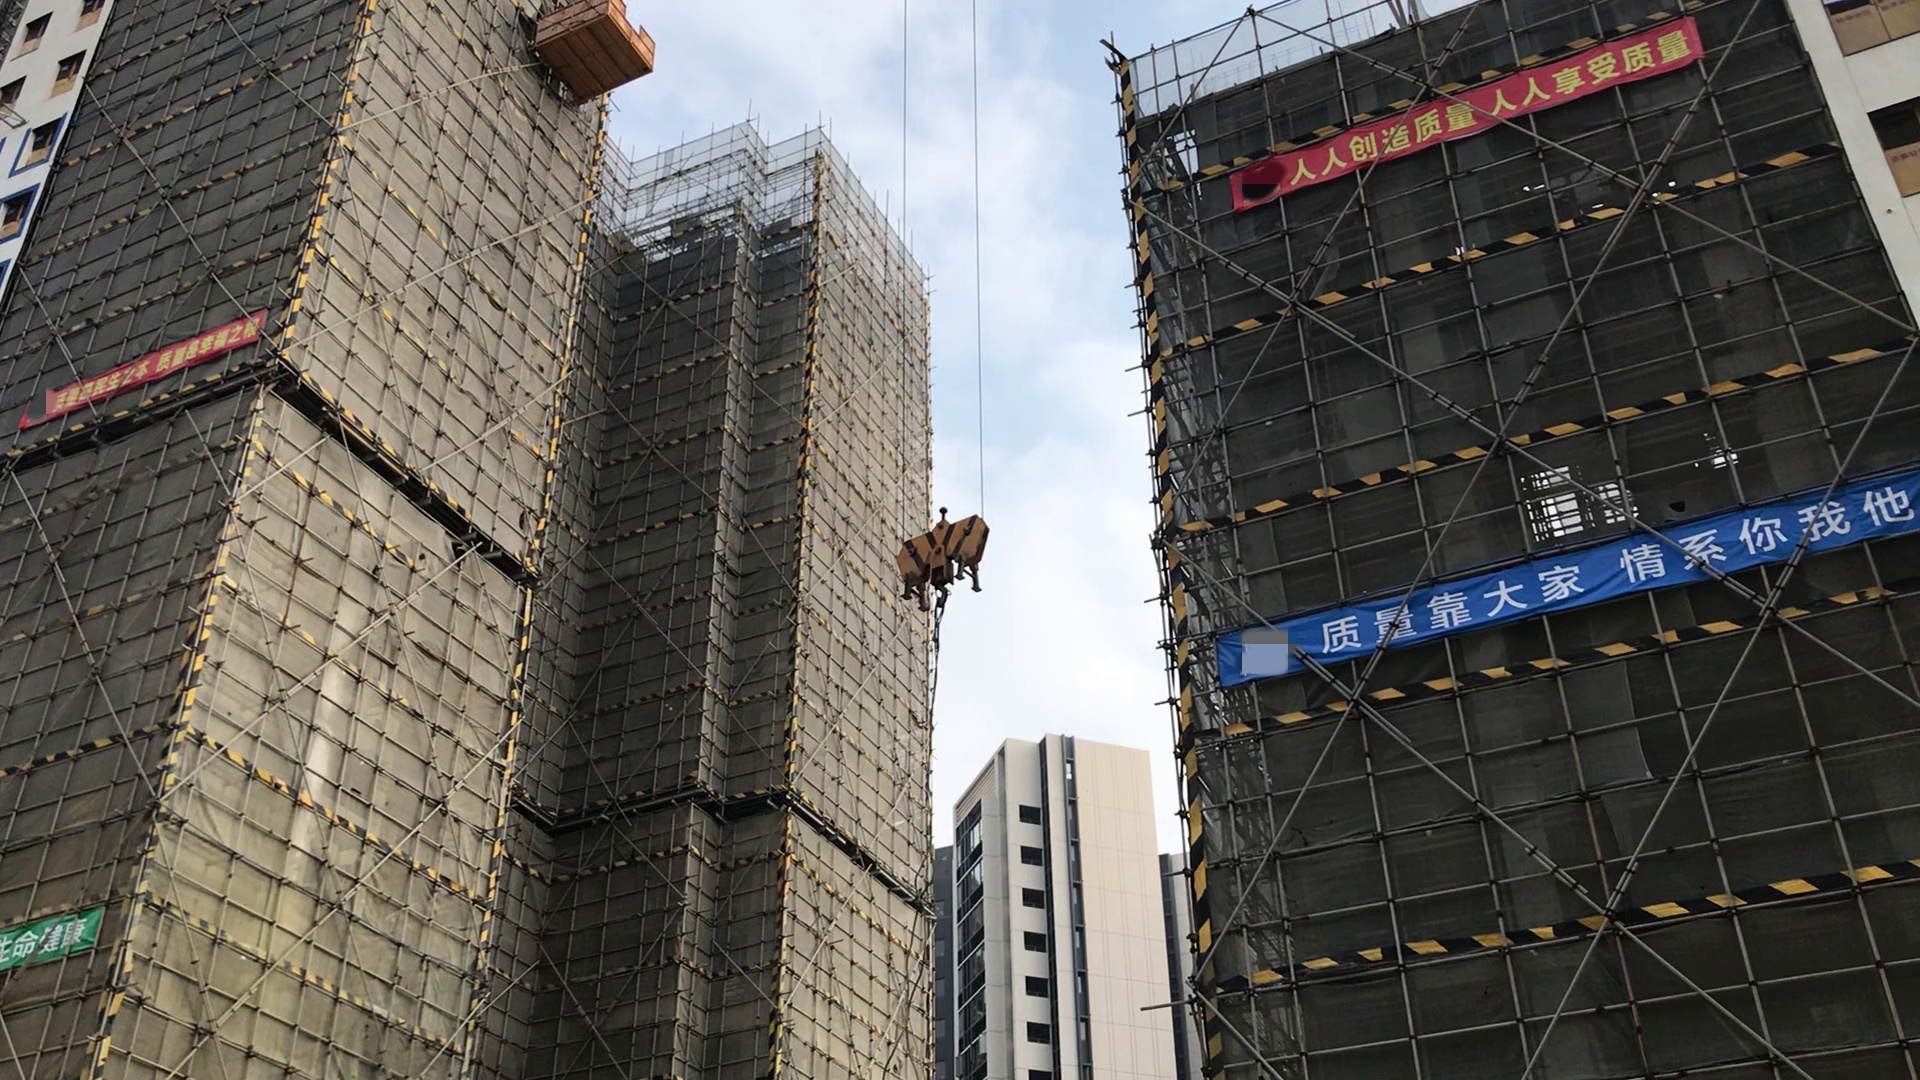hook: (891, 506, 1000, 600)
slogan: (1200, 477, 1920, 683), (1222, 12, 1704, 220), (21, 326, 277, 415), (1, 905, 112, 942)
